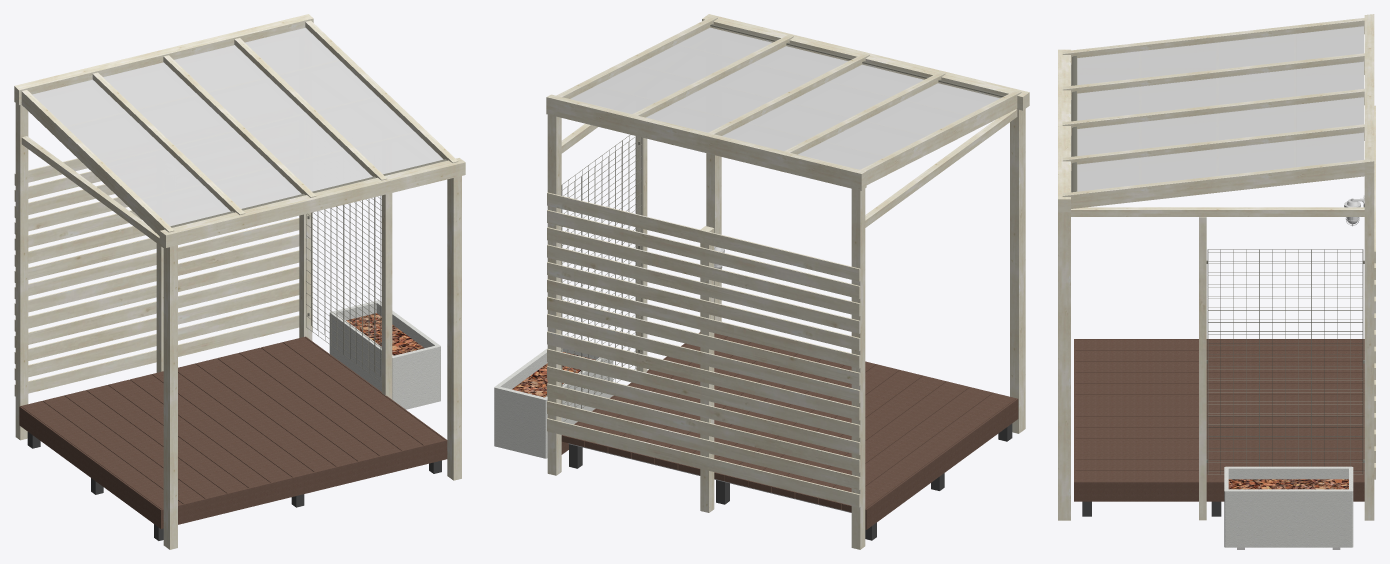
Rendered from spg1-g_whitepine.fbx.
3 renders of one model, left to right at view 1: azimuth 30°, elevation 25°; view 2: azimuth 150°, elevation 25°; view 3: azimuth 270°, elevation 25°, orthographic. The views are drawn at different scales.
Visible parts, largest first — view 1: spg1-g_whitepine_ファニチャーなし.001; view 2: spg1-g_whitepine_ファニチャーなし.001; view 3: spg1-g_whitepine_ファニチャーなし.001.
Boxes of the visible parts, x1=… form: spg1-g_whitepine_ファニチャーなし.001: x1=14, y1=14, x2=465, y2=549; spg1-g_whitepine_ファニチャーなし.001: x1=494, y1=14, x2=1029, y2=549; spg1-g_whitepine_ファニチャーなし.001: x1=1058, y1=14, x2=1375, y2=549.
Size of the model in its own units: 326 by 308 by 246.
15 materials, 9 textured.
